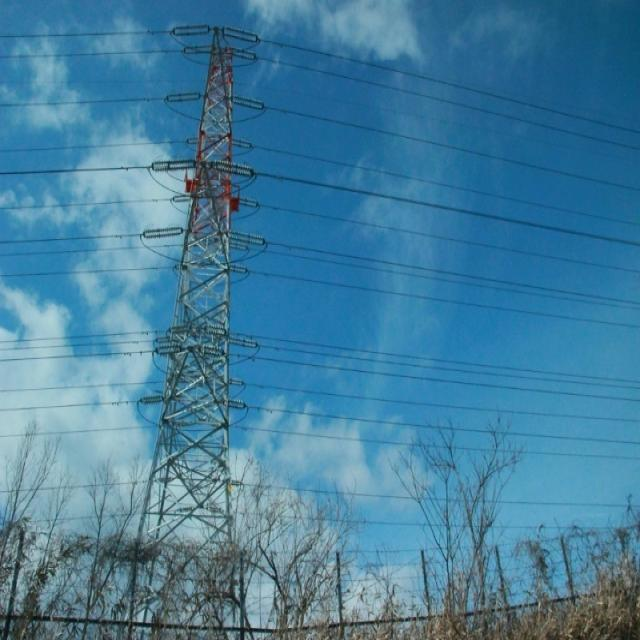non-critical vegetation: (129, 27, 285, 618)
